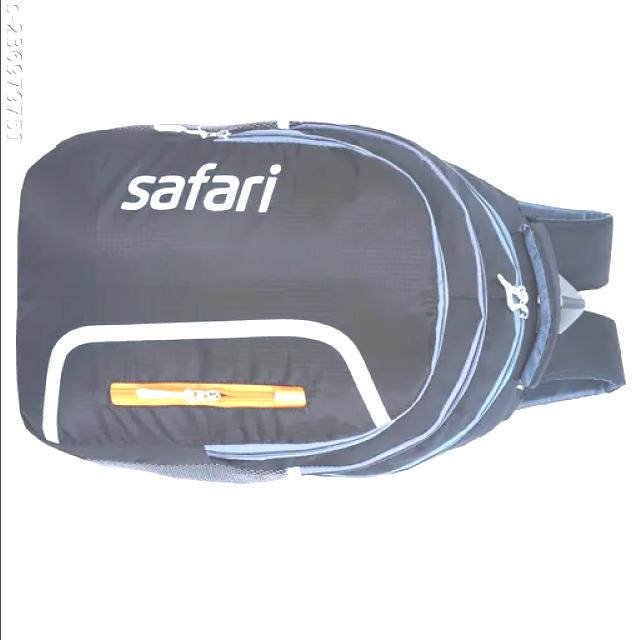backpack: (16, 118, 627, 486)
